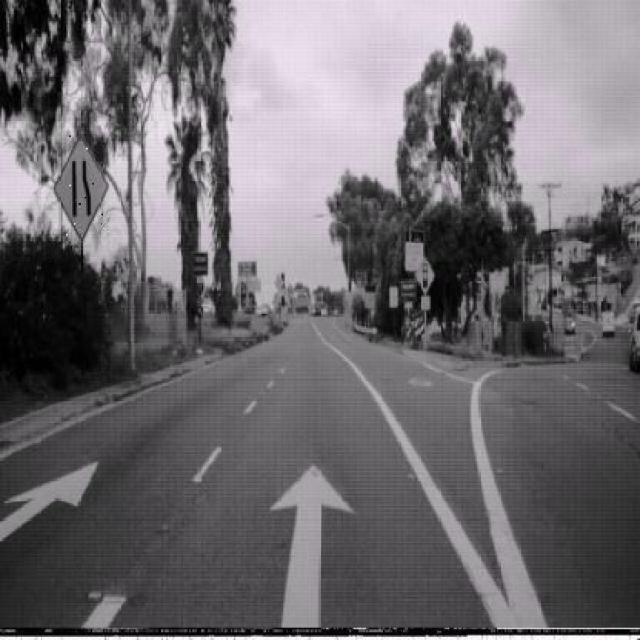laneEnds: (54, 132, 109, 240)
signalAhead: (416, 254, 434, 293)
